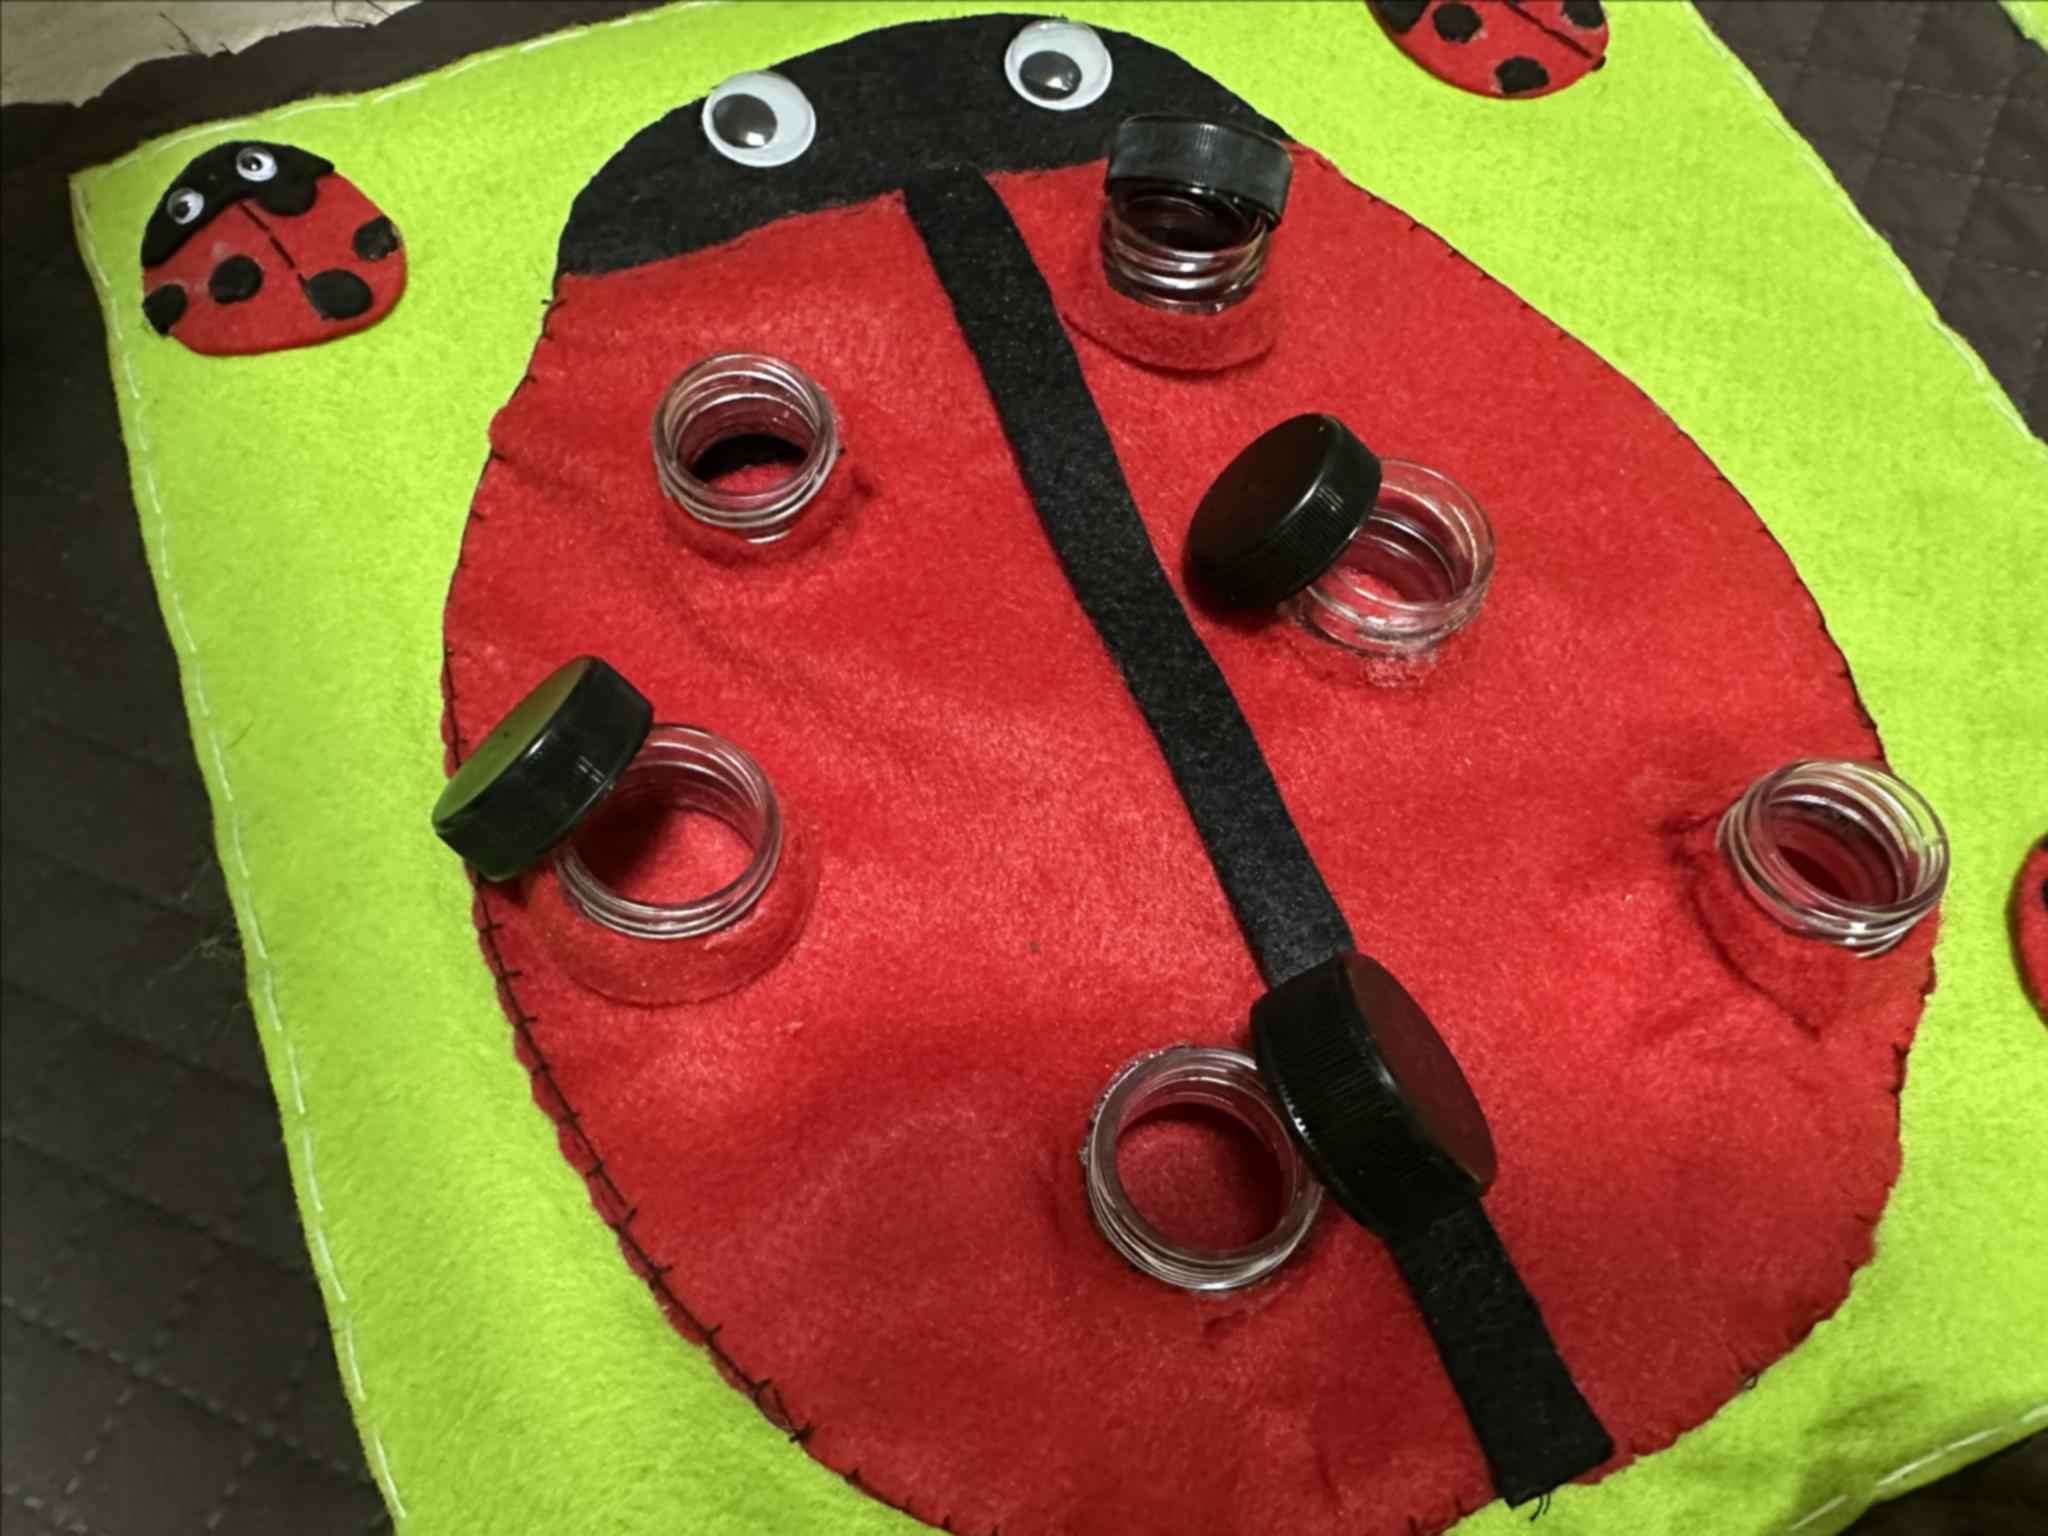cap_ng: (1042, 931, 1526, 1326), (419, 645, 811, 995), (1174, 395, 1511, 670), (1066, 102, 1319, 392)
